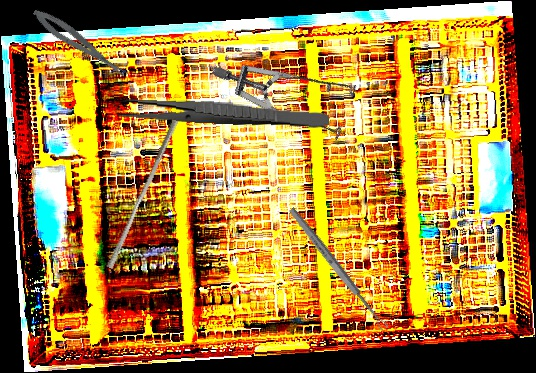Dressing Forceps: (117, 96, 330, 130)
Micro Scissor: (29, 3, 131, 85)
Pusher: (105, 109, 182, 272)
Speculum: (210, 4, 375, 174)
Surgical Spoon: (287, 206, 389, 332)
